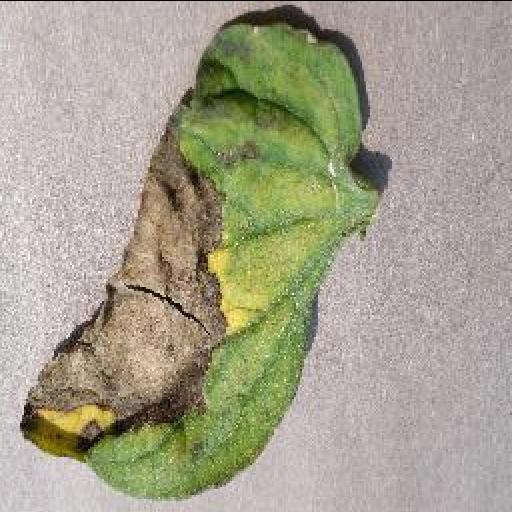disease_tomato: (18, 22, 364, 500)
